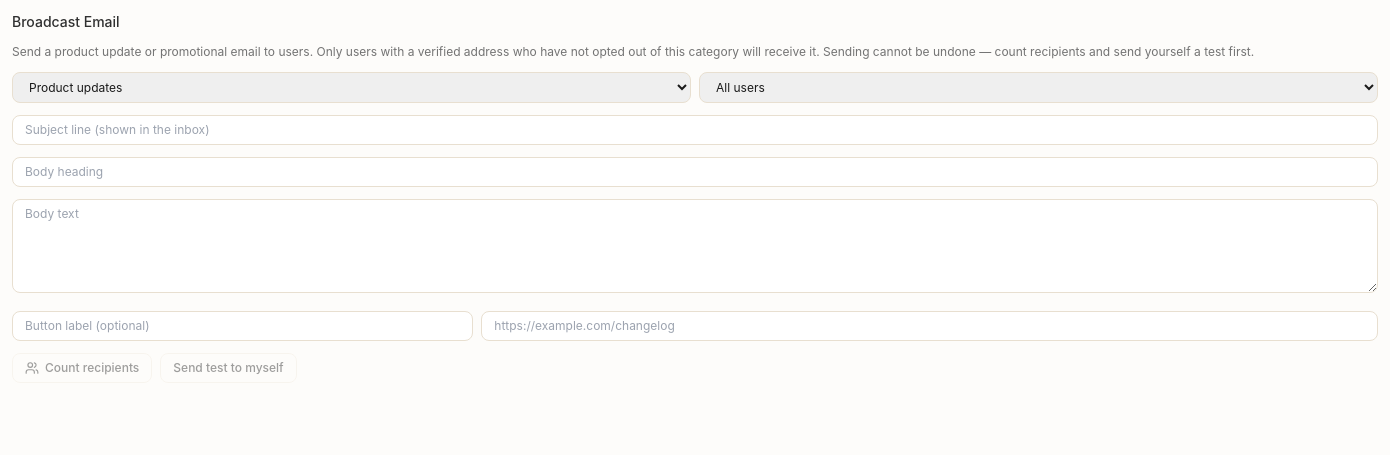
EmailBroadcastSection › 营销总开关关闭时给出警告
This screenshot has width=1390, height=455.
Type "Subject" into the field with placeholder "Subject line (shown in the inbox)" at (695, 130), box top-left (12, 115), bottom-right (1378, 145)
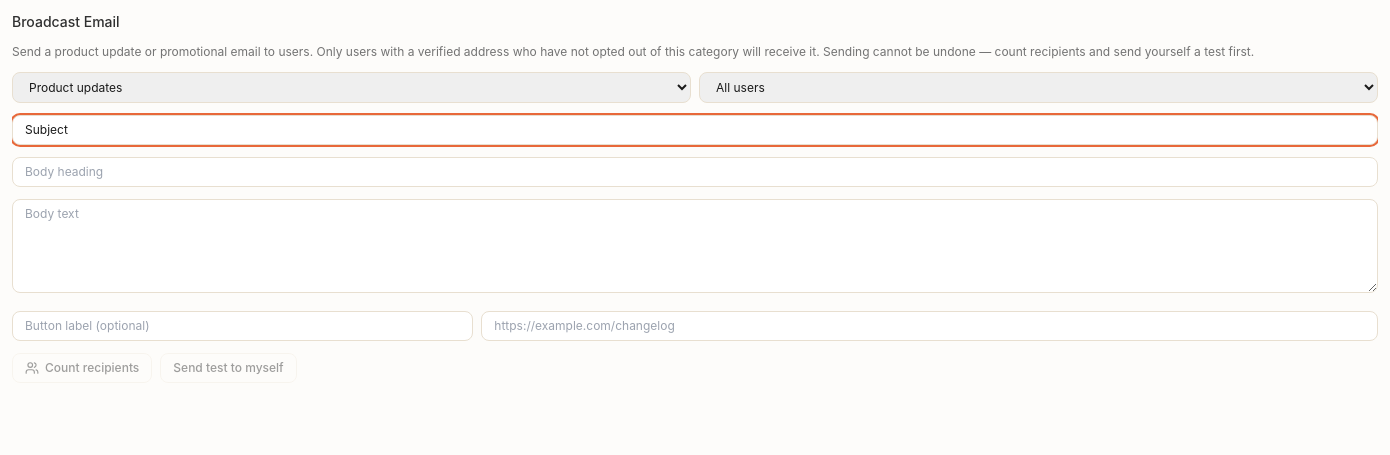
Type "Heading" into the field with placeholder "Body heading" at (695, 172), box top-left (12, 157), bottom-right (1378, 187)
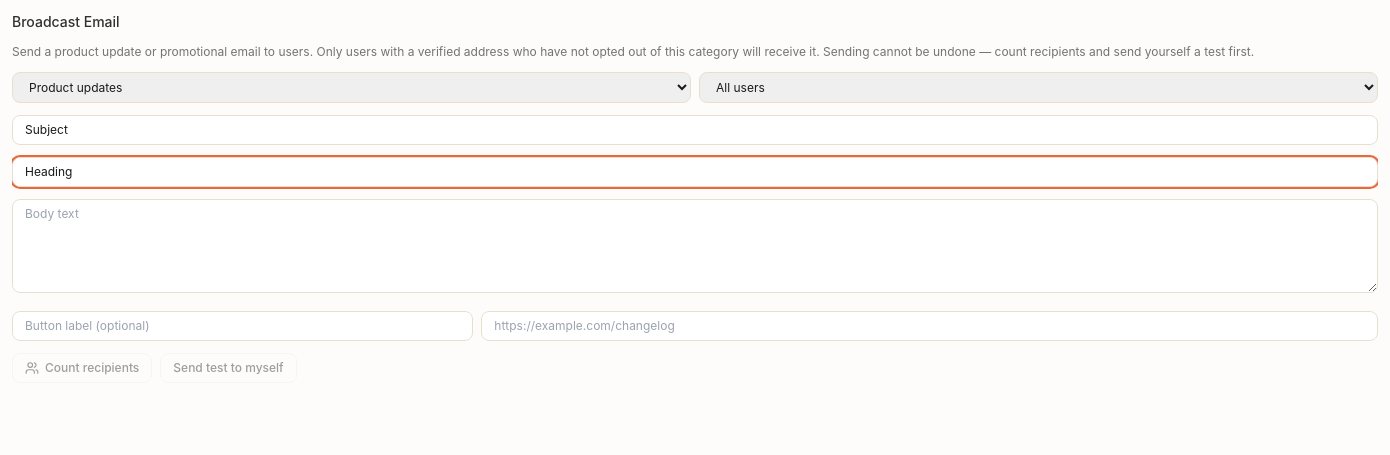
Type "Body" into the text box with placeholder "Body text" at (695, 246), box top-left (12, 199), bottom-right (1378, 293)
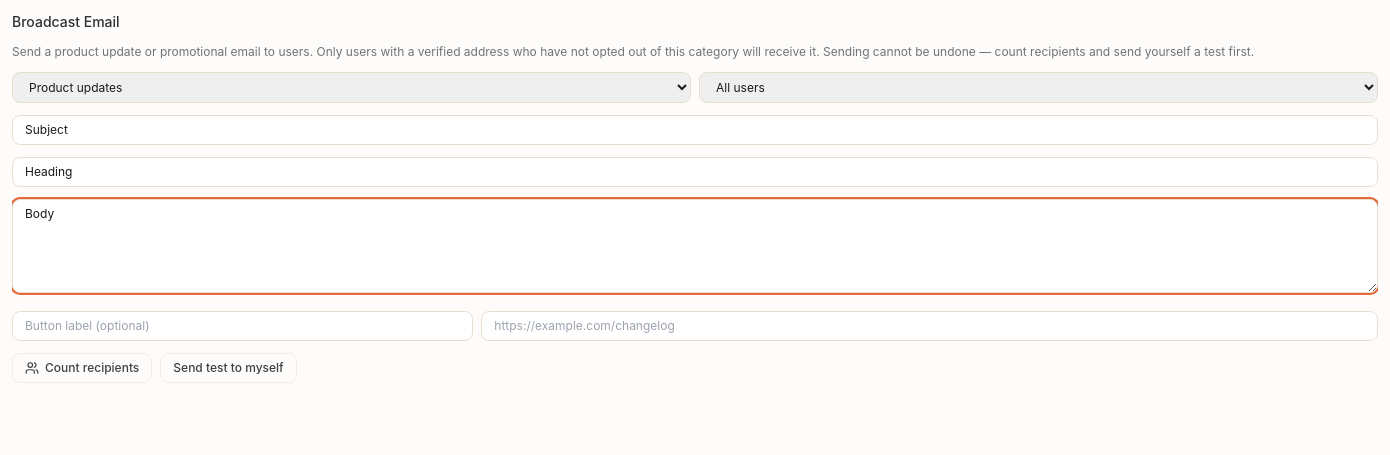
Click the button "Count recipients" at (82, 368), box top-left (12, 353), bottom-right (152, 383)
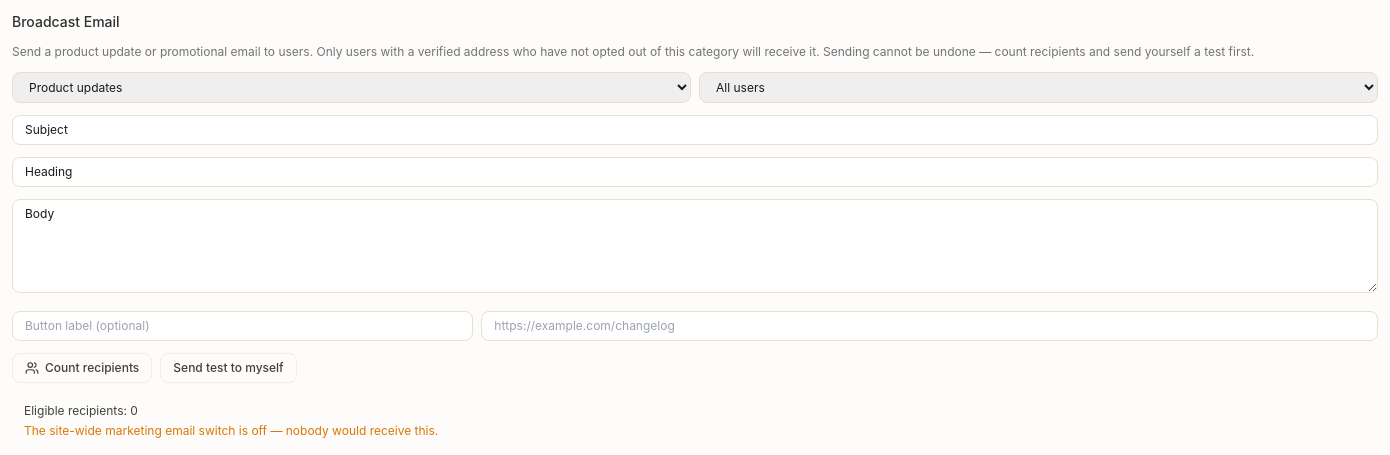
expect the text "site-wide marketing email switch is off" is shown: met, box top-left (24, 423), bottom-right (438, 438)
